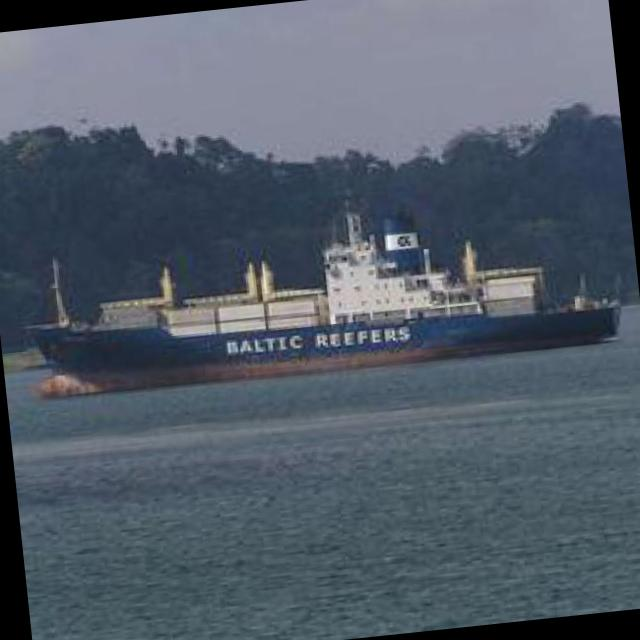boat: (7, 225, 626, 408)
